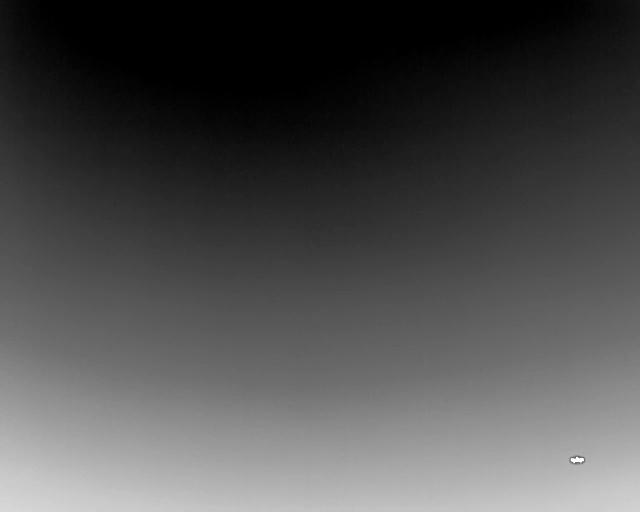fpv-drone: (569, 455, 585, 464)
